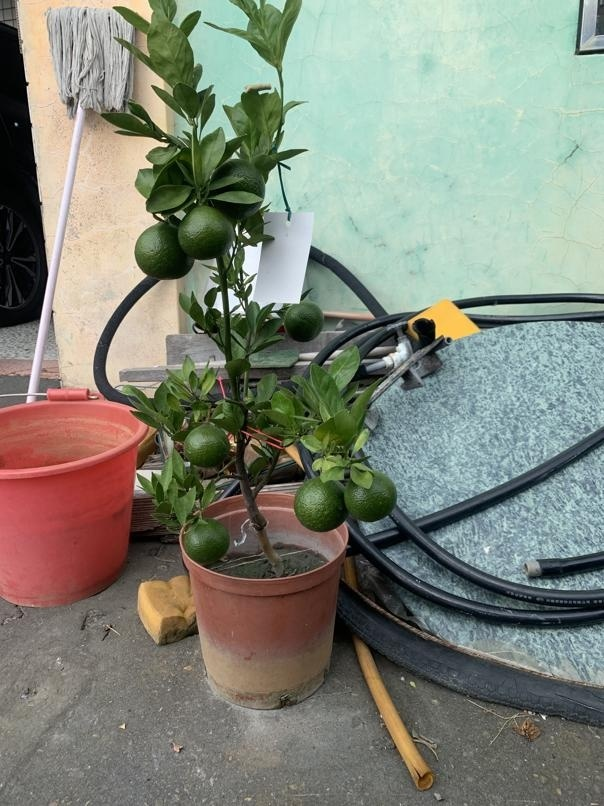Tangerine: (133, 217, 190, 279), (178, 205, 236, 260), (296, 473, 348, 531), (341, 471, 398, 522), (181, 513, 232, 565), (182, 417, 232, 469), (281, 299, 324, 344)
